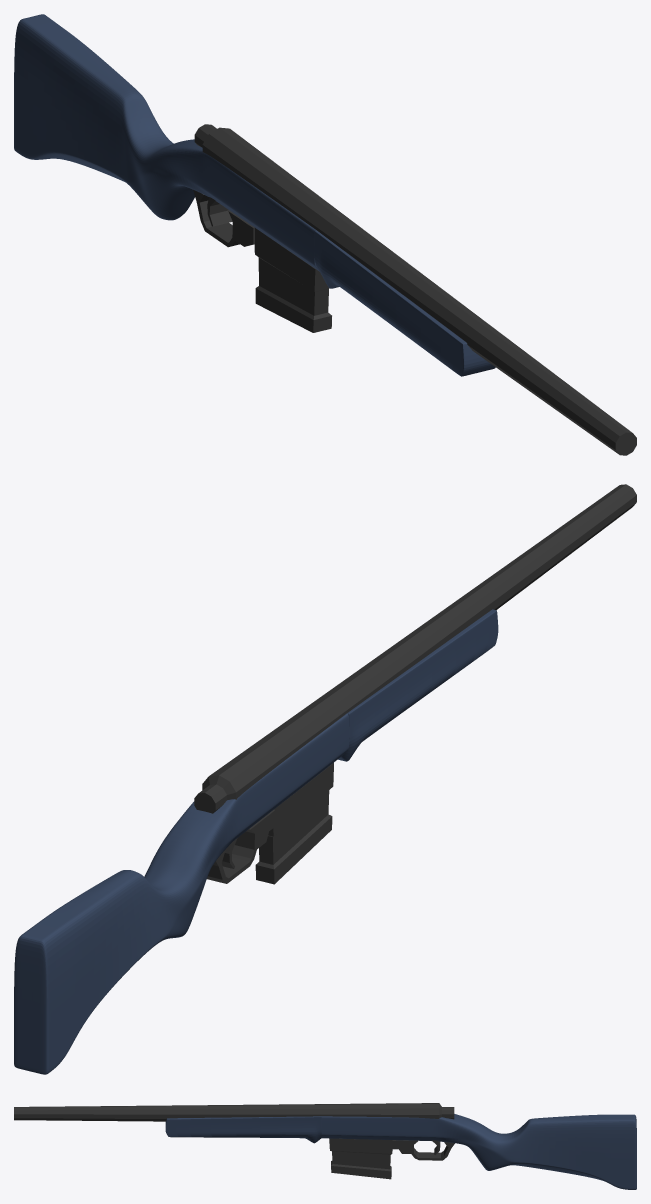
File: gun.gltf
The picture shows the model from 3 angles, top to bottom: view 1: azimuth 30°, elevation 25°; view 2: azimuth 150°, elevation 25°; view 3: azimuth 270°, elevation 25°; orthographic projection. The views are drawn at different scales.
Visible parts, largest first — view 1: Cube, Cylinder, Cube.002, Cube.003, Cube.004; view 2: Cube, Cylinder, Cube.002, Cube.003, Cube.004; view 3: Cube, Cylinder, Cube.002, Cube.003, Cube.004.
Part boxes in pixels (x1=…): Cube: x1=14, y1=14, x2=319, y2=271; Cylinder: x1=194, y1=124, x2=636, y2=455; Cube.002: x1=314, y1=230, x2=495, y2=376; Cube.003: x1=254, y1=228, x2=331, y2=332; Cube.004: x1=193, y1=189, x2=254, y2=247; Cube: x1=14, y1=713, x2=349, y2=1074; Cylinder: x1=194, y1=484, x2=636, y2=813; Cube.002: x1=338, y1=609, x2=498, y2=761; Cube.003: x1=255, y1=762, x2=333, y2=884; Cube.004: x1=207, y1=809, x2=275, y2=883; Cube: x1=321, y1=1114, x2=636, y2=1189; Cylinder: x1=14, y1=1103, x2=454, y2=1121; Cube.002: x1=165, y1=1116, x2=321, y2=1143; Cube.003: x1=329, y1=1138, x2=392, y2=1179; Cube.004: x1=392, y1=1140, x2=454, y2=1160.
Size of the model in its own units: 0.2181 by 0.677 by 4.63.
